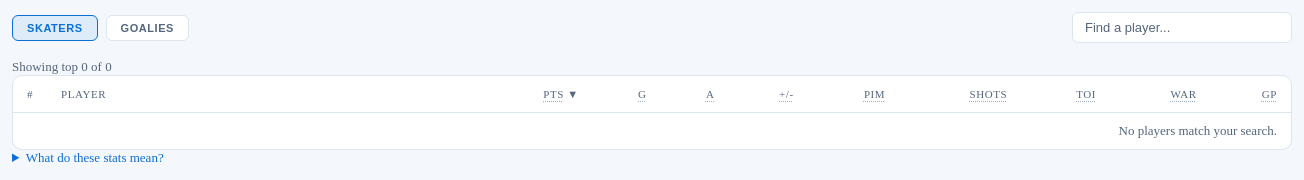
Scenario: LeaderboardPanel › a lower-is-better column (GAA) defaults to ascending on first click
The image size is (1304, 180).
Click the button "GOALIES" at (147, 28), box [106,14,189,40]
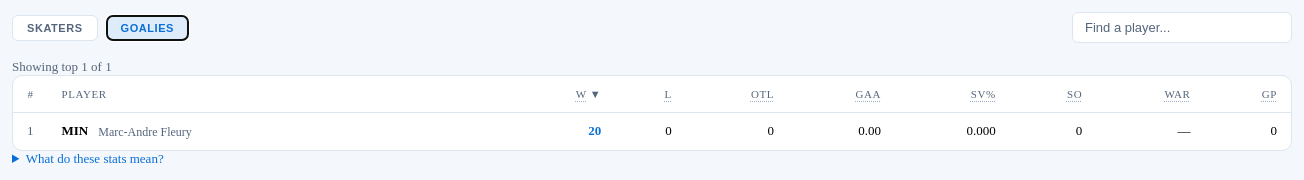
Click the column heading "GAA" at (842, 94), box [788,76,895,112]
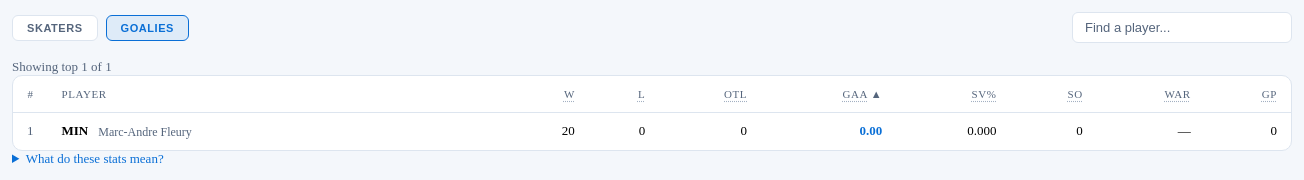
expect the column heading "GAA ▲" is shown: met, box [761,76,896,112]
